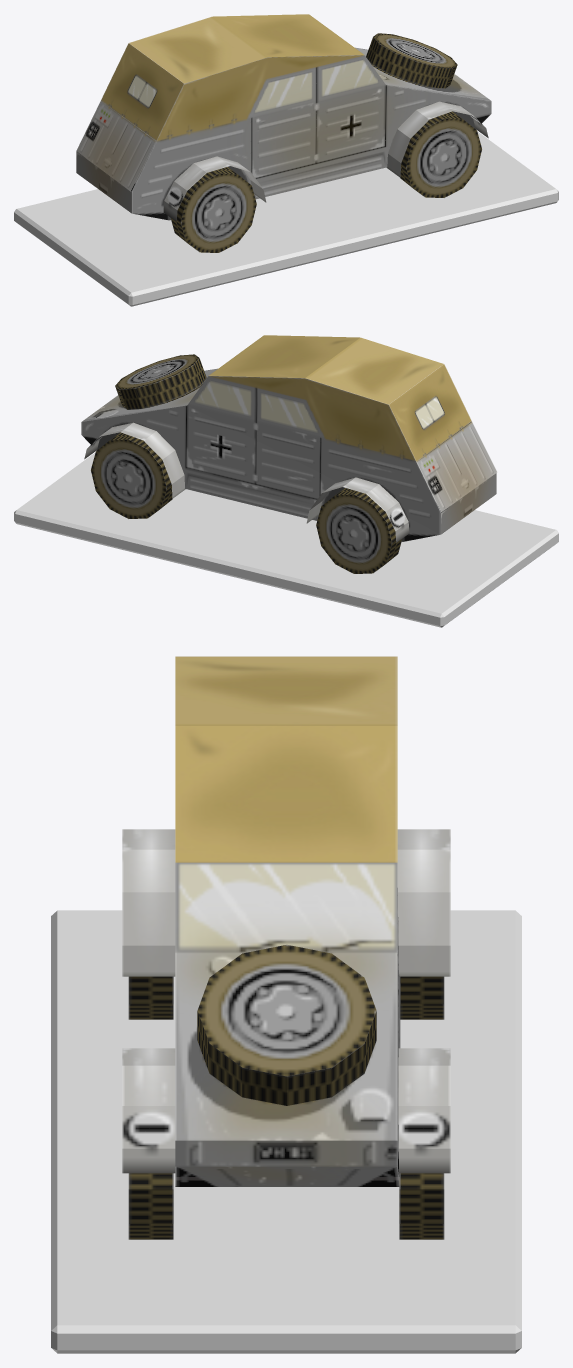
The model's file is kubel.fbx.
3 views of the same model, one above another, from view 1: azimuth 30°, elevation 25°; view 2: azimuth 150°, elevation 25°; view 3: azimuth 270°, elevation 25° (orthographic). The views are drawn at different scales.
Visible parts, largest first — view 1: Plane, Plane.001, Cylinder, Cylinder.001, Plane.002, Cylinder.004, Cylinder.002, Cylinder.003; view 2: Plane, Plane.001, Cylinder, Cylinder.001, Plane.002, Cylinder.004, Cylinder.002, Cylinder.003; view 3: Plane.001, Plane, Cylinder.004, Cylinder.003, Cylinder.002, Cylinder.001, Cylinder.
Part boxes in pixels (bbox=[...]): Plane: bbox=[76, 14, 491, 220]; Plane.001: bbox=[14, 131, 558, 306]; Cylinder: bbox=[170, 167, 256, 252]; Cylinder.001: bbox=[400, 111, 481, 197]; Plane.002: bbox=[76, 101, 155, 191]; Cylinder.004: bbox=[366, 33, 457, 88]; Cylinder.002: bbox=[386, 101, 488, 177]; Cylinder.003: bbox=[163, 156, 266, 221]; Plane: bbox=[81, 335, 496, 541]; Plane.001: bbox=[14, 452, 558, 627]; Cylinder: bbox=[316, 488, 401, 573]; Cylinder.001: bbox=[91, 432, 172, 518]; Plane.002: bbox=[417, 422, 497, 512]; Cylinder.004: bbox=[115, 354, 206, 409]; Cylinder.002: bbox=[84, 422, 185, 498]; Cylinder.003: bbox=[306, 477, 409, 542]; Plane.001: bbox=[51, 910, 521, 1353]; Plane: bbox=[175, 656, 400, 1186]; Cylinder.004: bbox=[197, 944, 376, 1105]; Cylinder.003: bbox=[122, 829, 450, 976]; Cylinder.002: bbox=[122, 1048, 450, 1173]; Cylinder.001: bbox=[128, 1173, 444, 1239]; Cylinder: bbox=[128, 976, 444, 1019].
Size of the model in its own units: 2.17 by 0.9034 by 1.03.
